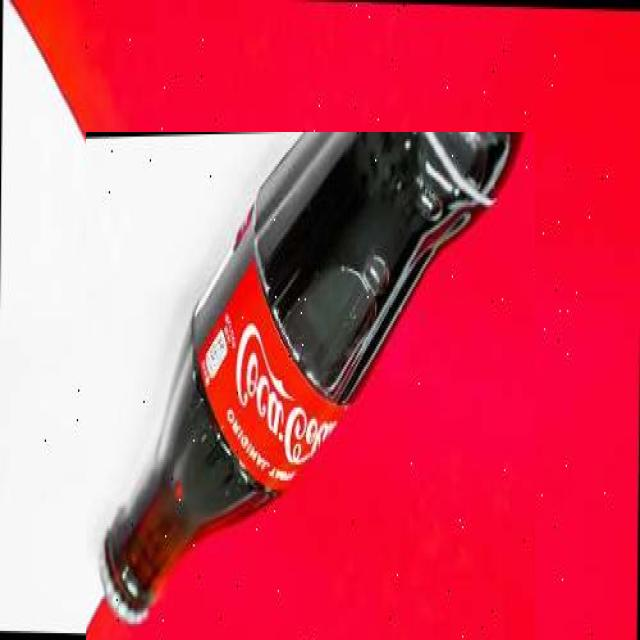coca-cola: (86, 132, 535, 640)
